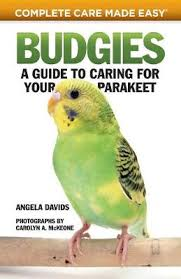budgie: (46, 77, 149, 263)
